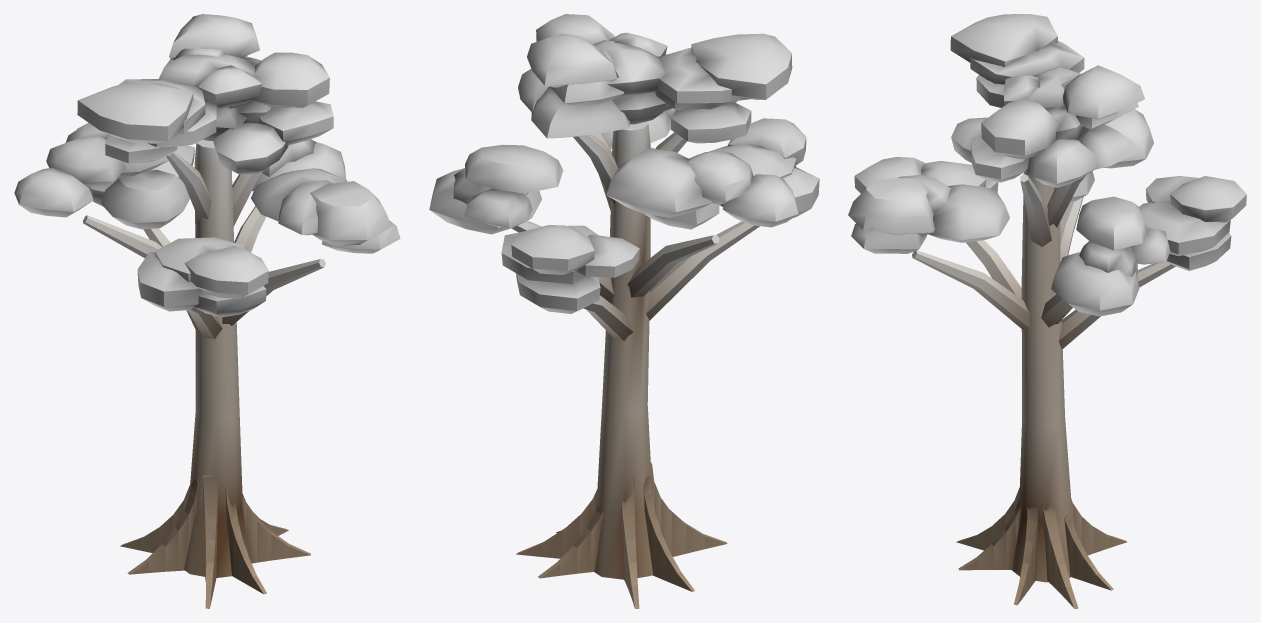
The model's file is tetrameles_a.glb.
3 views of the same model, side by side, from view 1: azimuth 30°, elevation 25°; view 2: azimuth 150°, elevation 25°; view 3: azimuth 270°, elevation 25° (orthographic). The views are drawn at different scales.
Parts seen in each view (by area): view 1: Tree_Leaves, Tree_Trunk; view 2: Tree_Leaves, Tree_Trunk; view 3: Tree_Leaves, Tree_Trunk.
Part boxes in pixels (x1=…): Tree_Leaves: x1=14, y1=14, x2=400, y2=317; Tree_Trunk: x1=83, y1=139, x2=325, y2=608; Tree_Leaves: x1=429, y1=14, x2=819, y2=313; Tree_Trunk: x1=512, y1=121, x2=759, y2=608; Tree_Leaves: x1=848, y1=14, x2=1246, y2=316; Tree_Trunk: x1=912, y1=170, x2=1175, y2=608.
Size of the model in its own units: 18.41 by 26.95 by 19.18.
